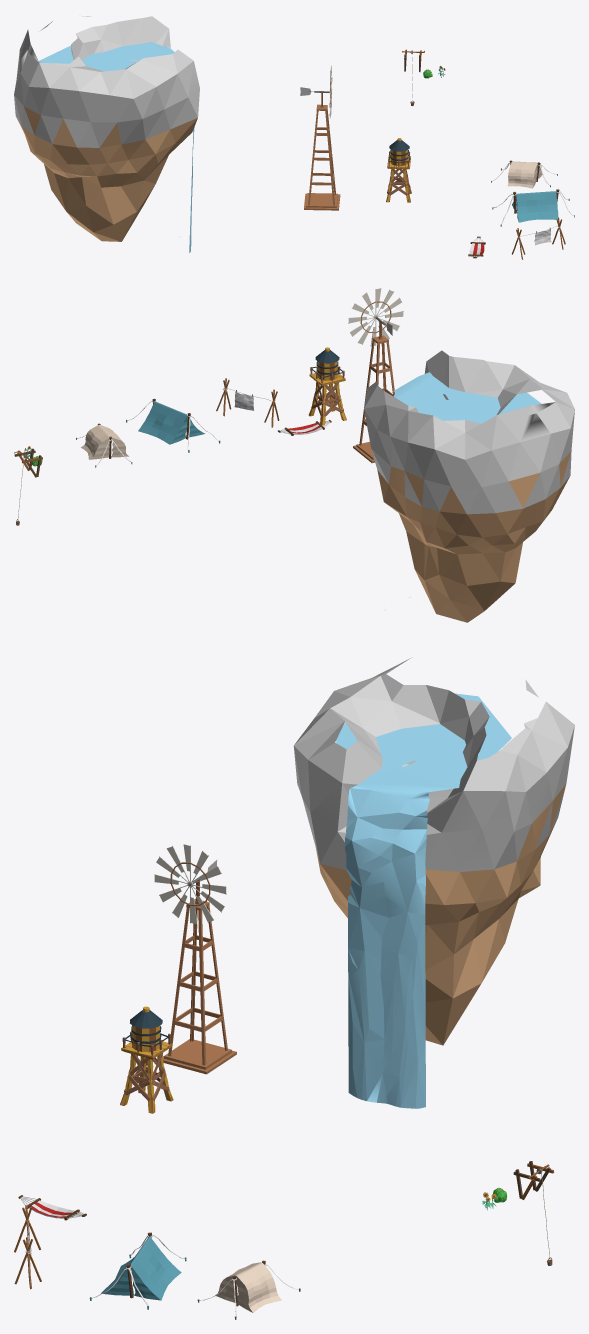
3 renders of one model, top to bottom at view 1: azimuth 30°, elevation 25°; view 2: azimuth 150°, elevation 25°; view 3: azimuth 270°, elevation 25°, orthographic. The views are drawn at different scales.
Parts seen in each view (by area): view 1: node_Icosphere_26132, node_Plane_26188, node_Base_003_26144, node_M_Tant_2_26130, node_WaterTower_1_26362, node_M_Tant_1_26126, node_M_Clothes_Line_26140; view 2: node_Icosphere_26132, node_Plane_26188, node_WaterTower_1_26362, node_M_Tant_2_26130, node_Wing_26360, node_Base_003_26144, node_M_Tant_1_26126, node_M_Clothes_Line_26140, node_M_Well_Componants_26210; view 3: node_Icosphere_26132, node_Plane_26188, node_Base_003_26144, node_WaterTower_1_26362, node_M_Tant_2_26130, node_Wing_26360, node_M_Tant_1_26126.
Boxes of the visible parts, x1,y1,x2,y2 form: node_Icosphere_26132: (14, 16, 199, 241); node_Plane_26188: (38, 42, 194, 252); node_Base_003_26144: (304, 92, 340, 210); node_M_Tant_2_26130: (492, 189, 574, 226); node_WaterTower_1_26362: (386, 138, 411, 202); node_M_Tant_1_26126: (491, 160, 557, 188); node_M_Clothes_Line_26140: (512, 217, 565, 259); node_Icosphere_26132: (364, 350, 574, 622); node_Plane_26188: (384, 372, 541, 610); node_WaterTower_1_26362: (308, 347, 346, 425); node_M_Tant_2_26130: (126, 398, 220, 452); node_Wing_26360: (348, 288, 403, 346); node_Base_003_26144: (353, 321, 394, 463); node_M_Tant_1_26126: (76, 423, 132, 467); node_M_Clothes_Line_26140: (216, 378, 279, 427); node_M_Well_Componants_26210: (14, 448, 42, 525); node_Icosphere_26132: (293, 657, 574, 1045); node_Plane_26188: (336, 693, 511, 1108); node_Base_003_26144: (163, 879, 236, 1074); node_WaterTower_1_26362: (120, 1006, 173, 1113); node_M_Tant_2_26130: (89, 1232, 186, 1309); node_Wing_26360: (154, 844, 226, 924); node_M_Tant_1_26126: (197, 1260, 300, 1319).
Size of what is drawn, in the model's own units: 30.9 by 13.5 by 19.61.
12 materials, 2 textured.
